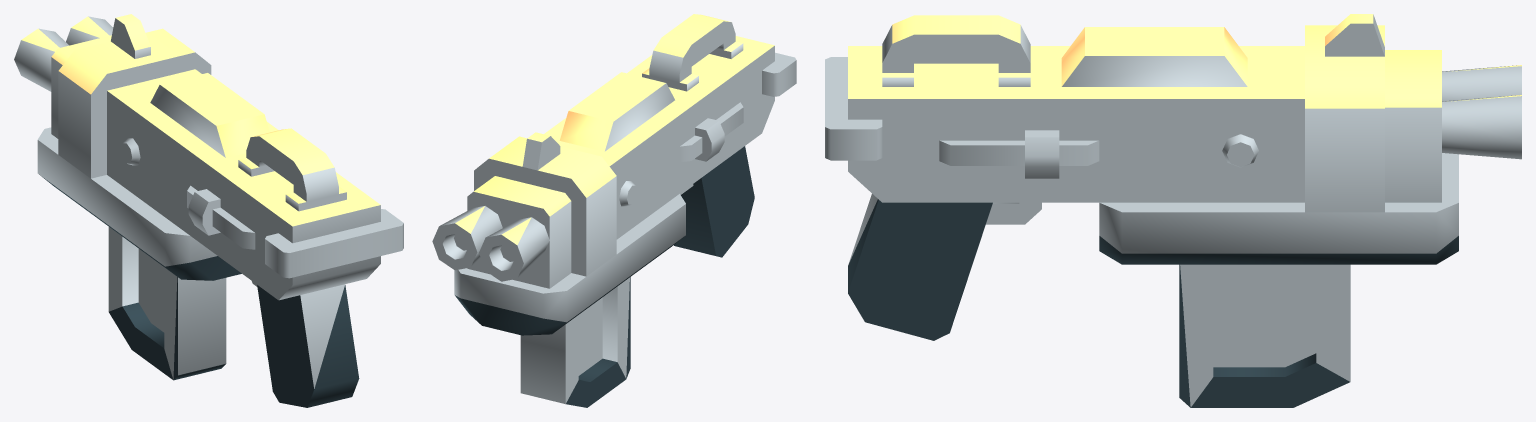
Rendered from plasma-polar-v1.glb.
3 renders of one model, left to right at view 1: azimuth 30°, elevation 25°; view 2: azimuth 150°, elevation 25°; view 3: azimuth 270°, elevation 25°, orthographic. The views are drawn at different scales.
Parts seen in each view (by area): view 1: plasma_Polar_Body; view 2: plasma_Polar_Body; view 3: plasma_Polar_Body.
Part boxes in pixels (<box>): plasma_Polar_Body: <box>14,14,403,407</box>; plasma_Polar_Body: <box>432,14,796,407</box>; plasma_Polar_Body: <box>825,14,1521,407</box>.
Size of the model in its own units: 0.155 by 0.3619 by 0.61.
